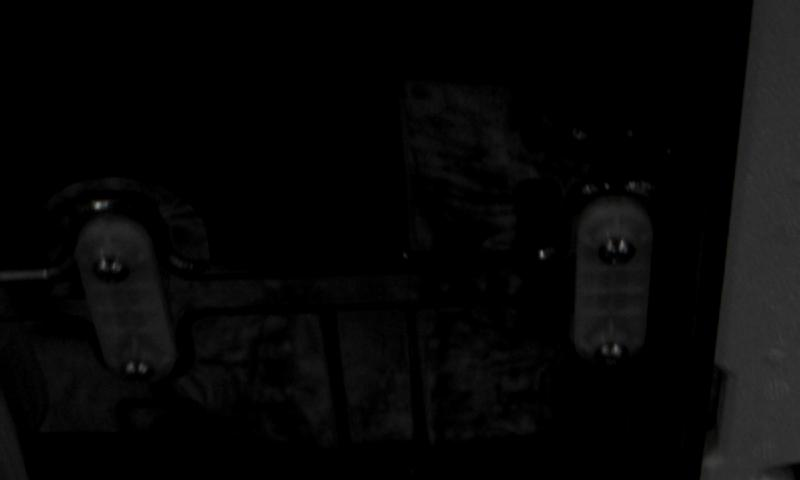vida-ok: (91, 248, 137, 292), (593, 232, 639, 275), (592, 332, 637, 371), (116, 350, 161, 389)
